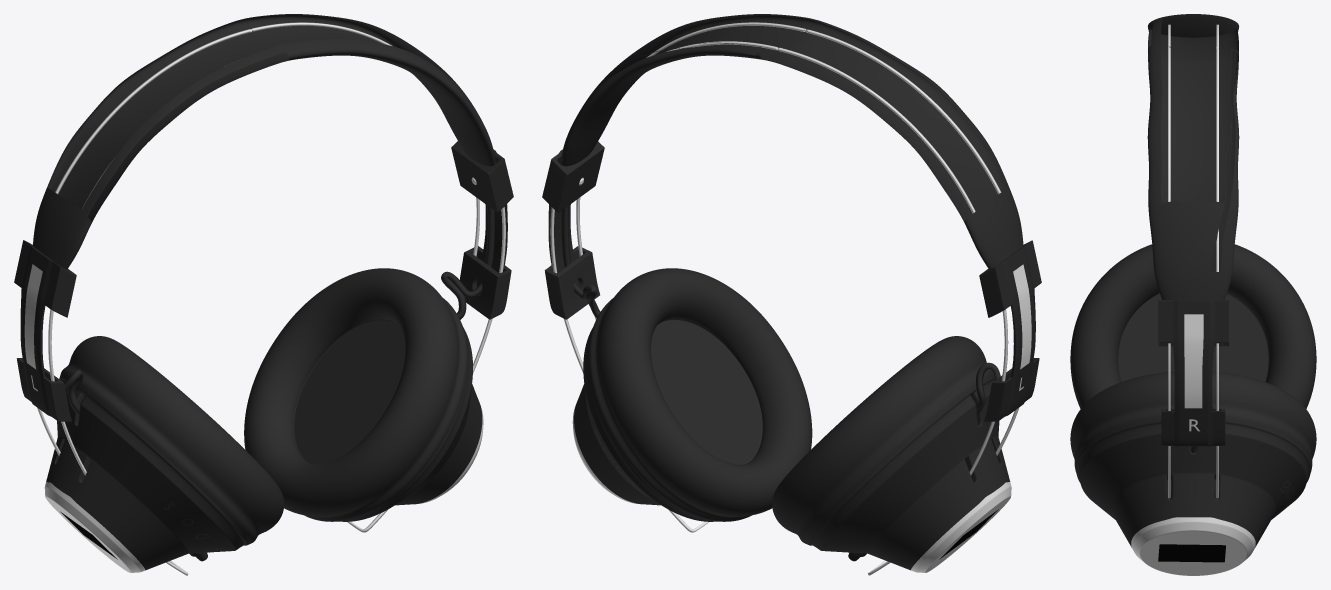
3 views of the same model, side by side, from view 1: azimuth 30°, elevation 25°; view 2: azimuth 150°, elevation 25°; view 3: azimuth 270°, elevation 25° (orthographic). The views are drawn at different scales.
Parts seen in each view (by area): view 1: jastuce_6, Circle_0, Cube_1, wire_13, kanap2_8; view 2: jastuce_6, Circle_0, Cube_1, wire_13, kanap2_8; view 3: jastuce_6, Circle_0, Cube_1, wire_13, logo_10.
Boxes of the visible parts, left/top/right/bottom form: jastuce_6: left=44, top=268, right=483, bottom=572; Circle_0: left=32, top=14, right=495, bottom=269; Cube_1: left=14, top=141, right=513, bottom=421; wire_13: left=37, top=22, right=505, bottom=575; kanap2_8: left=441, top=205, right=494, bottom=319; jastuce_6: left=572, top=268, right=1011, bottom=572; Circle_0: left=560, top=14, right=1023, bottom=269; Cube_1: left=542, top=141, right=1041, bottom=421; wire_13: left=550, top=22, right=1019, bottom=575; kanap2_8: left=561, top=205, right=600, bottom=317; jastuce_6: left=1070, top=244, right=1316, bottom=575; Circle_0: left=1147, top=14, right=1239, bottom=300; Cube_1: left=1158, top=300, right=1228, bottom=446; wire_13: left=1168, top=24, right=1218, bottom=498; logo_10: left=1158, top=544, right=1225, bottom=562.
Size of the model in its own units: 2.05 by 2.17 by 0.9944.
7 materials, 1 textured.
